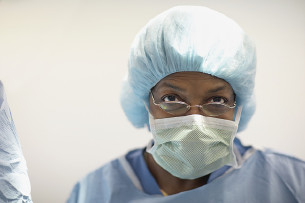face_mask: (149, 66, 236, 181)
